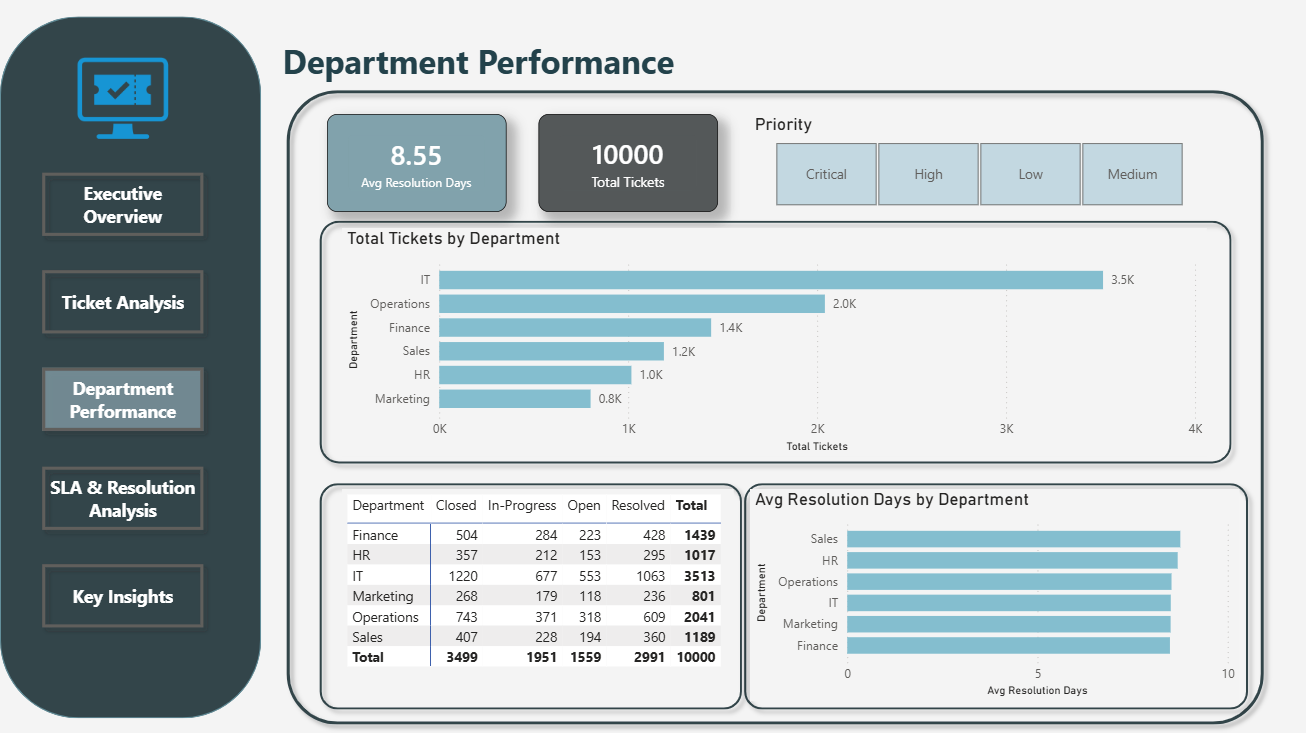

The dashboard page shown, as its layout file describes it:
{"tool":"powerbi","page":{"name":"Department Performance","canvas":[1280,720],"ordinal":2},"visuals":[{"type":"shape","box":[0,16,256,688],"z":4000},{"type":"actionButton","box":[32,160,176,80],"z":5000},{"type":"actionButton","box":[32,256,176,80],"z":6000},{"type":"actionButton","box":[32,352,176,80],"z":7000},{"type":"actionButton","box":[32,448,176,80],"z":8000},{"type":"actionButton","box":[32,544,176,80],"z":9000},{"type":"image","box":[64,32,112,128],"z":10000},{"type":"textbox","box":[272,32,416,64],"z":11000},{"type":"shape","box":[272,80,976,640],"z":12000},{"type":"shape","box":[720,464,512,240],"z":13000},{"type":"shape","box":[304,208,912,256],"z":14000},{"type":"shape","box":[304,464,432,240],"z":15000},{"type":"cardVisual","fields":{"Data":["IT_Service_Desk_Dataset.Avg Resolution Days"]},"box":[320,112,176,96],"z":16000},{"type":"cardVisual","fields":{"Data":["IT_Service_Desk_Dataset.Total Tickets"]},"box":[528,112,176,96],"z":17000},{"type":"clusteredBarChart","fields":{"Category":["IT_Service_Desk_Dataset.Department"],"Y":["IT_Service_Desk_Dataset.Total Tickets"]},"box":[336,224,848,224],"z":18000},{"type":"clusteredBarChart","fields":{"Category":["IT_Service_Desk_Dataset.Department"],"Y":["IT_Service_Desk_Dataset.Avg Resolution Days"]},"box":[736,480,480,208],"z":18500},{"type":"pivotTable","fields":{"Rows":["IT_Service_Desk_Dataset.Department"],"Columns":["IT_Service_Desk_Dataset.Status"],"Values":["IT_Service_Desk_Dataset.Total Tickets"]},"box":[336,480,384,192],"z":19000},{"type":"slicer","title":"Priority","fields":{"Values":["IT_Service_Desk_Dataset.Priority"]},"box":[736,112,448,96],"z":19500}]}

Visuals, with their boxes in screenshot pixels (x1, y1, x2, y2), scaled from the page's 1280x720 canvas onto the 1306x733 screenshot:
shape: pyautogui.locateOnScreen(0, 16, 261, 717)
actionButton: pyautogui.locateOnScreen(33, 163, 212, 244)
actionButton: pyautogui.locateOnScreen(33, 261, 212, 342)
actionButton: pyautogui.locateOnScreen(33, 358, 212, 440)
actionButton: pyautogui.locateOnScreen(33, 456, 212, 538)
actionButton: pyautogui.locateOnScreen(33, 554, 212, 635)
image: pyautogui.locateOnScreen(65, 33, 180, 163)
textbox: pyautogui.locateOnScreen(278, 33, 702, 98)
shape: pyautogui.locateOnScreen(278, 81, 1273, 732)
shape: pyautogui.locateOnScreen(735, 472, 1257, 717)
shape: pyautogui.locateOnScreen(310, 212, 1241, 472)
shape: pyautogui.locateOnScreen(310, 472, 751, 717)
cardVisual - IT_Service_Desk_Dataset.Avg Resolution Days: pyautogui.locateOnScreen(326, 114, 506, 212)
cardVisual - IT_Service_Desk_Dataset.Total Tickets: pyautogui.locateOnScreen(539, 114, 718, 212)
clusteredBarChart - IT_Service_Desk_Dataset.Department x IT_Service_Desk_Dataset.Total Tickets: pyautogui.locateOnScreen(343, 228, 1208, 456)
clusteredBarChart - IT_Service_Desk_Dataset.Department x IT_Service_Desk_Dataset.Avg Resolution Days: pyautogui.locateOnScreen(751, 489, 1241, 700)
pivotTable - IT_Service_Desk_Dataset.Department x IT_Service_Desk_Dataset.Status: pyautogui.locateOnScreen(343, 489, 735, 684)
"Priority" slicer: pyautogui.locateOnScreen(751, 114, 1208, 212)
